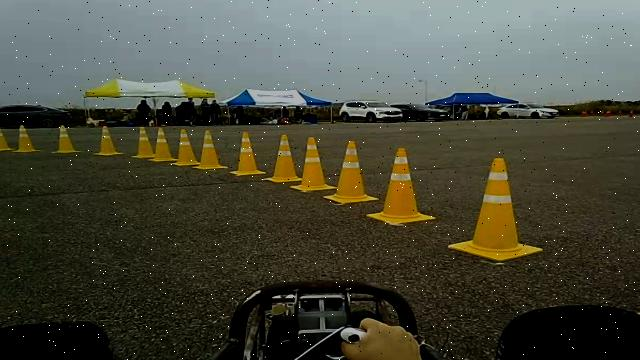yellow cone: (447, 157, 543, 262), (366, 147, 436, 226), (323, 140, 379, 204), (290, 136, 336, 192), (261, 134, 301, 183), (229, 131, 266, 176), (192, 130, 228, 170), (170, 128, 200, 166), (92, 125, 126, 156), (148, 127, 176, 162), (52, 124, 81, 154), (12, 124, 40, 153), (131, 126, 156, 158), (0, 124, 16, 151), (636, 309, 640, 320)
